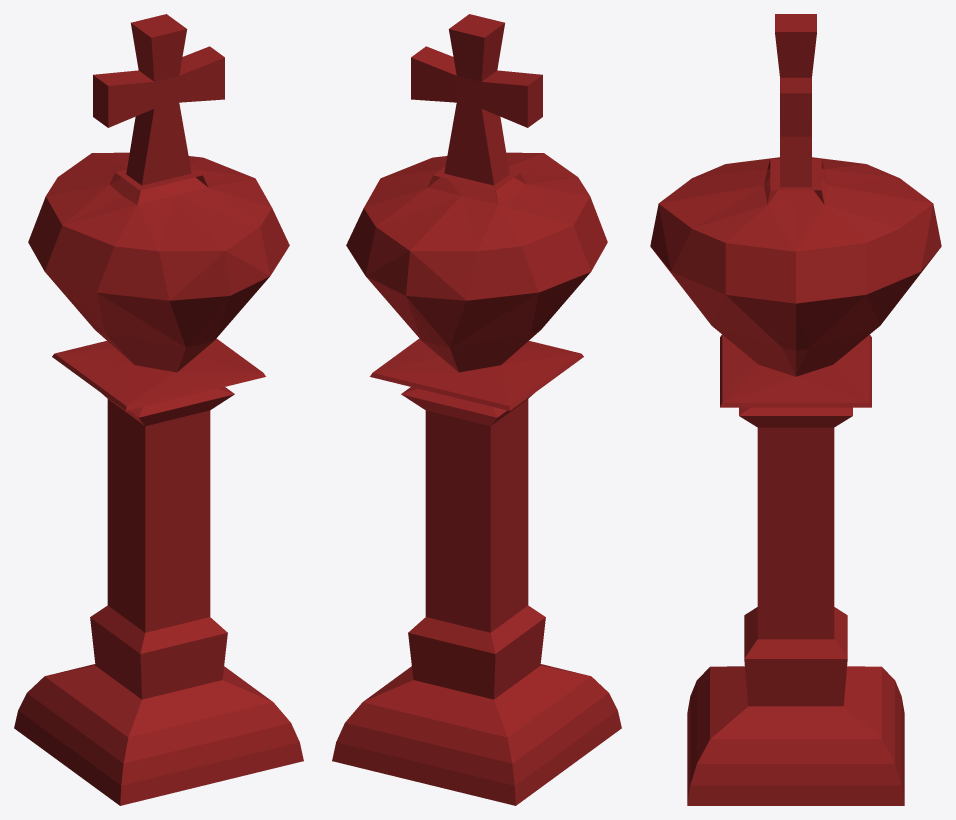
File: king.obj
3 views of the same model, side by side, from view 1: azimuth 30°, elevation 25°; view 2: azimuth 150°, elevation 25°; view 3: azimuth 270°, elevation 25° (orthographic). The views are drawn at different scales.
Parts seen in each view (by area): view 1: 立方体; view 2: 立方体; view 3: 立方体.
Part boxes in pixels (x1,y1,x2,y2): 立方体: (14,14,303,805); 立方体: (332,14,621,805); 立方体: (650,14,941,805).
Bounding box in the file's own units: 4.97 × 14.95 × 5.36.
Materials: 1 (1 with a texture image).
